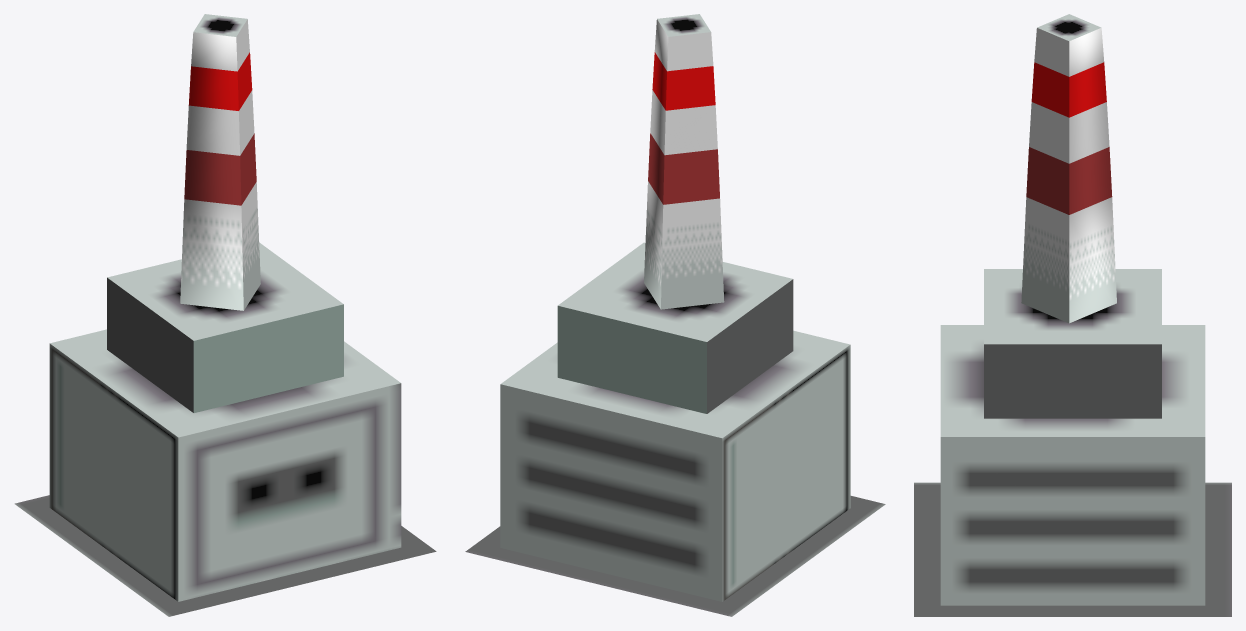
Rendered from BLD_Oil_Refinery_Medium02.fbx.
The picture shows the model from 3 angles, left to right: view 1: azimuth 30°, elevation 25°; view 2: azimuth 150°, elevation 25°; view 3: azimuth 270°, elevation 25°; orthographic projection. The views are drawn at different scales.
Parts seen in each view (by area): view 1: BLD_OilRefinery_Medium02; view 2: BLD_OilRefinery_Medium02; view 3: BLD_OilRefinery_Medium02.
Boxes of the visible parts, left/top/right/bottom form: BLD_OilRefinery_Medium02: left=14, top=14, right=436, bottom=616; BLD_OilRefinery_Medium02: left=465, top=14, right=885, bottom=616; BLD_OilRefinery_Medium02: left=914, top=14, right=1231, bottom=616.
Bounding box in the file's own units: 801 × 801 × 1453.
